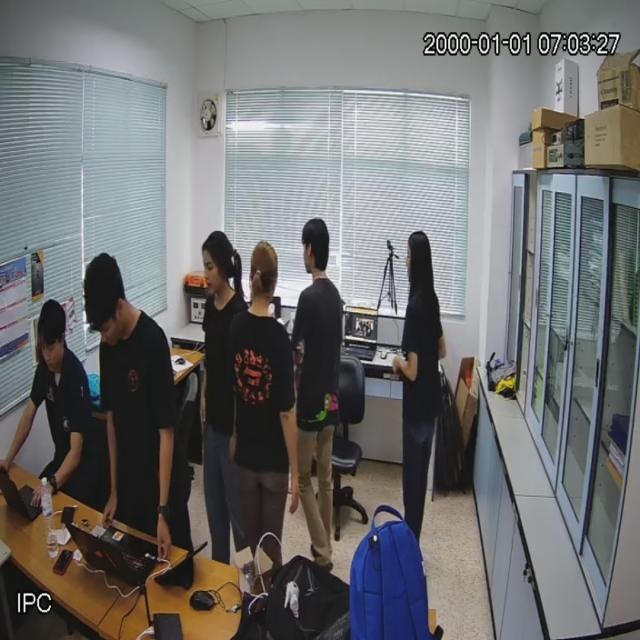normal: (87, 257, 184, 553), (235, 243, 292, 572), (8, 302, 98, 509), (294, 222, 343, 569), (395, 236, 443, 541), (203, 236, 244, 562)
